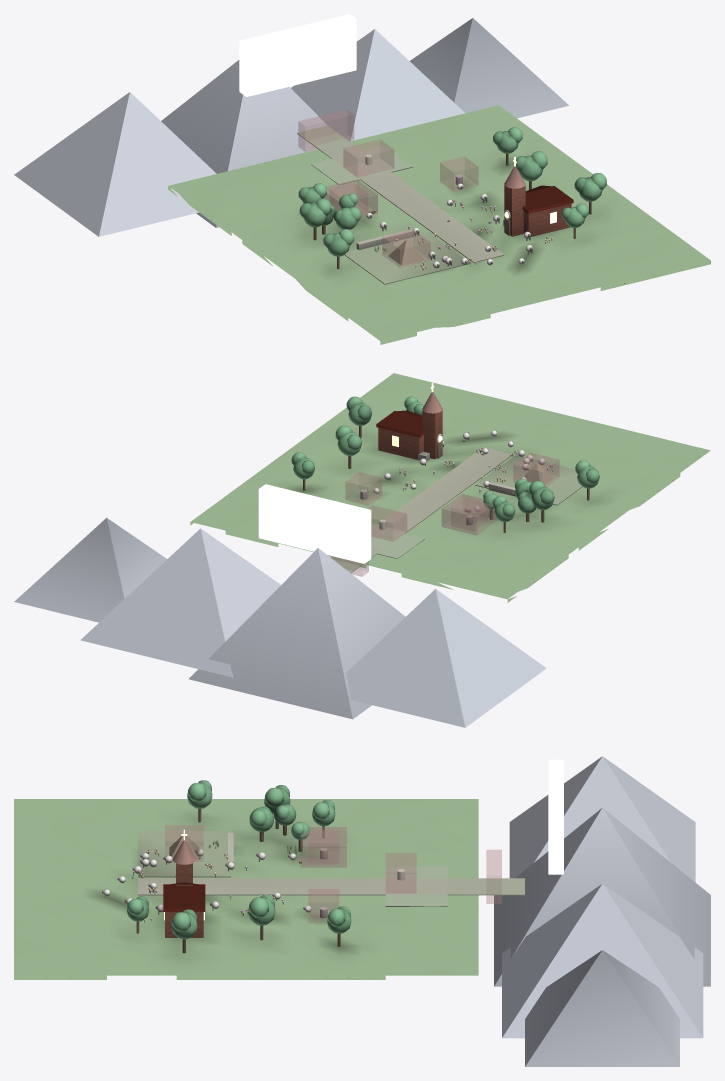
File: delectable_mountains.glb
3 renders of one model, top to bottom at view 1: azimuth 30°, elevation 25°; view 2: azimuth 150°, elevation 25°; view 3: azimuth 270°, elevation 25°, orthographic. The views are drawn at different scales.
Visible parts, largest first — view 1: ENV_Mountains_Pasture, VIS_PROP_Ridge_SnowPeaks (×4), PROP_DistantCelestialCity, ENV_Mountains_ViewpointPath, ENV_Mountains_ShepherdCamp, VIS_PROP_Chapel (×3), TRIGGER_Exit_EnchantedGround, ENV_Mountains_CelestialView, TRIGGER_CelestialView, TRIGGER_ReceiveShepherdMap, ENV_Mountains_ExitPath, COL_ErrorCliffWarningZone (+3 smaller); view 2: VIS_PROP_Ridge_SnowPeaks (×4), ENV_Mountains_Pasture, PROP_DistantCelestialCity, ENV_Mountains_ViewpointPath, VIS_PROP_Chapel (×3), ENV_Mountains_ShepherdCamp, COL_ErrorCliffWarningZone, TRIGGER_ReceiveShepherdMap, TRIGGER_CelestialView, ENV_Mountains_CelestialView, TRIGGER_ShortcutGraveView, TRIGGER_ErrorCliffView; view 3: ENV_Mountains_Pasture, VIS_PROP_Ridge_SnowPeaks (×4), ENV_Mountains_ViewpointPath, ENV_Mountains_ShepherdCamp, PROP_DistantCelestialCity, COL_ErrorCliffWarningZone, ENV_Mountains_CelestialView, ENV_Mountains_ExitPath, TRIGGER_CelestialView, VIS_PROP_Chapel, TRIGGER_ReceiveShepherdMap, TRIGGER_ErrorCliffView (+2 smaller).
Boxes of the visible parts, x1,y1,x2,y2 form: ENV_Mountains_Pasture: (168,105,710,344); VIS_PROP_Ridge_SnowPeaks (×4): (14,18,568,236); PROP_DistantCelestialCity: (239,14,356,96); ENV_Mountains_ViewpointPath: (340,158,504,262); ENV_Mountains_ShepherdCamp: (344,232,470,284); VIS_PROP_Chapel (×3): (504,183,573,236); TRIGGER_Exit_EnchantedGround: (298,109,353,151); ENV_Mountains_CelestialView: (311,146,412,185); TRIGGER_CelestialView: (343,139,393,177); TRIGGER_ReceiveShepherdMap: (382,229,430,267); ENV_Mountains_ExitPath: (297,125,366,163); COL_ErrorCliffWarningZone: (323,179,377,217); VIS_PROP_Ridge_SnowPeaks (×4): (14,517,546,727); ENV_Mountains_Pasture: (190,373,710,602); PROP_DistantCelestialCity: (258,484,371,563); ENV_Mountains_ViewpointPath: (371,447,512,546); VIS_PROP_Chapel (×3): (376,408,442,459); ENV_Mountains_ShepherdCamp: (475,455,582,505); COL_ErrorCliffWarningZone: (441,494,497,535); TRIGGER_ReceiveShepherdMap: (513,453,559,486); TRIGGER_CelestialView: (367,505,406,541); ENV_Mountains_CelestialView: (371,526,424,558); TRIGGER_ShortcutGraveView: (345,472,381,505); TRIGGER_ErrorCliffView: (451,498,487,531); ENV_Mountains_Pasture: (14,799,478,979); VIS_PROP_Ridge_SnowPeaks (×4): (494,756,710,1066); ENV_Mountains_ViewpointPath: (138,878,447,895); ENV_Mountains_ShepherdCamp: (138,831,230,877); PROP_DistantCelestialCity: (548,759,563,874); COL_ErrorCliffWarningZone: (300,827,346,867); ENV_Mountains_CelestialView: (385,866,447,906); ENV_Mountains_ExitPath: (432,878,524,895); TRIGGER_CelestialView: (386,853,416,893); VIS_PROP_Chapel: (163,884,205,911); TRIGGER_ReceiveShepherdMap: (165,825,203,861); TRIGGER_ErrorCliffView: (308,830,338,863).
Size of the model in its own units: 78 by 23.5 by 90.
57 materials, 2 textured.
